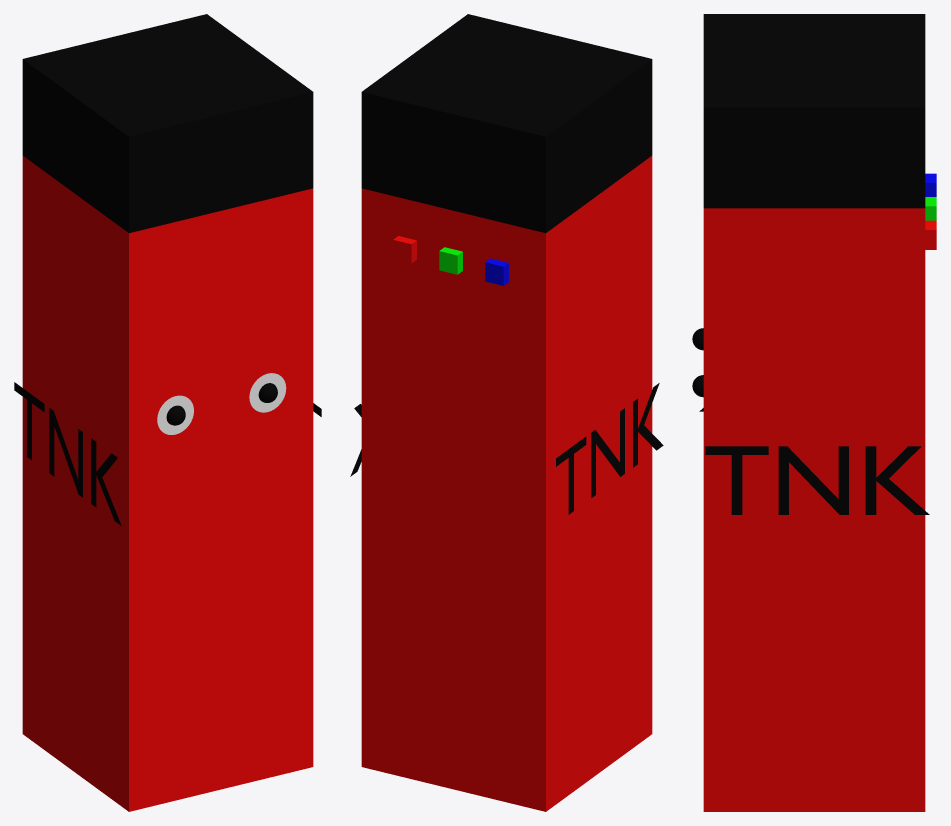
3 views of the same model, side by side, from view 1: azimuth 30°, elevation 25°; view 2: azimuth 150°, elevation 25°; view 3: azimuth 270°, elevation 25° (orthographic). The views are drawn at different scales.
Parts seen in each view (by area): view 1: Cube, Cube.001, Text, rEye, lEye; view 2: Cube, Cube.001, Text, Cube.004, Cube.003, Cube.002; view 3: Cube, Cube.001, Text.001.
Boxes of the visible parts, x1=… form: Cube: x1=22, y1=156, x2=313, y2=811; Cube.001: x1=22, y1=14, x2=313, y2=233; Text: x1=14, y1=382, x2=121, y2=525; rEye: x1=249, y1=373, x2=286, y2=412; lEye: x1=157, y1=395, x2=193, y2=434; Cube: x1=361, y1=156, x2=652, y2=811; Cube.001: x1=361, y1=14, x2=652, y2=233; Text: x1=556, y1=383, x2=663, y2=514; Cube.004: x1=485, y1=258, x2=508, y2=285; Cube.003: x1=439, y1=247, x2=462, y2=274; Cube.002: x1=393, y1=236, x2=416, y2=263; Cube: x1=703, y1=208, x2=925, y2=811; Cube.001: x1=703, y1=14, x2=925, y2=208; Text.001: x1=705, y1=446, x2=929, y2=514.
Size of the model in its own units: 2.2 by 7 by 2.2.
